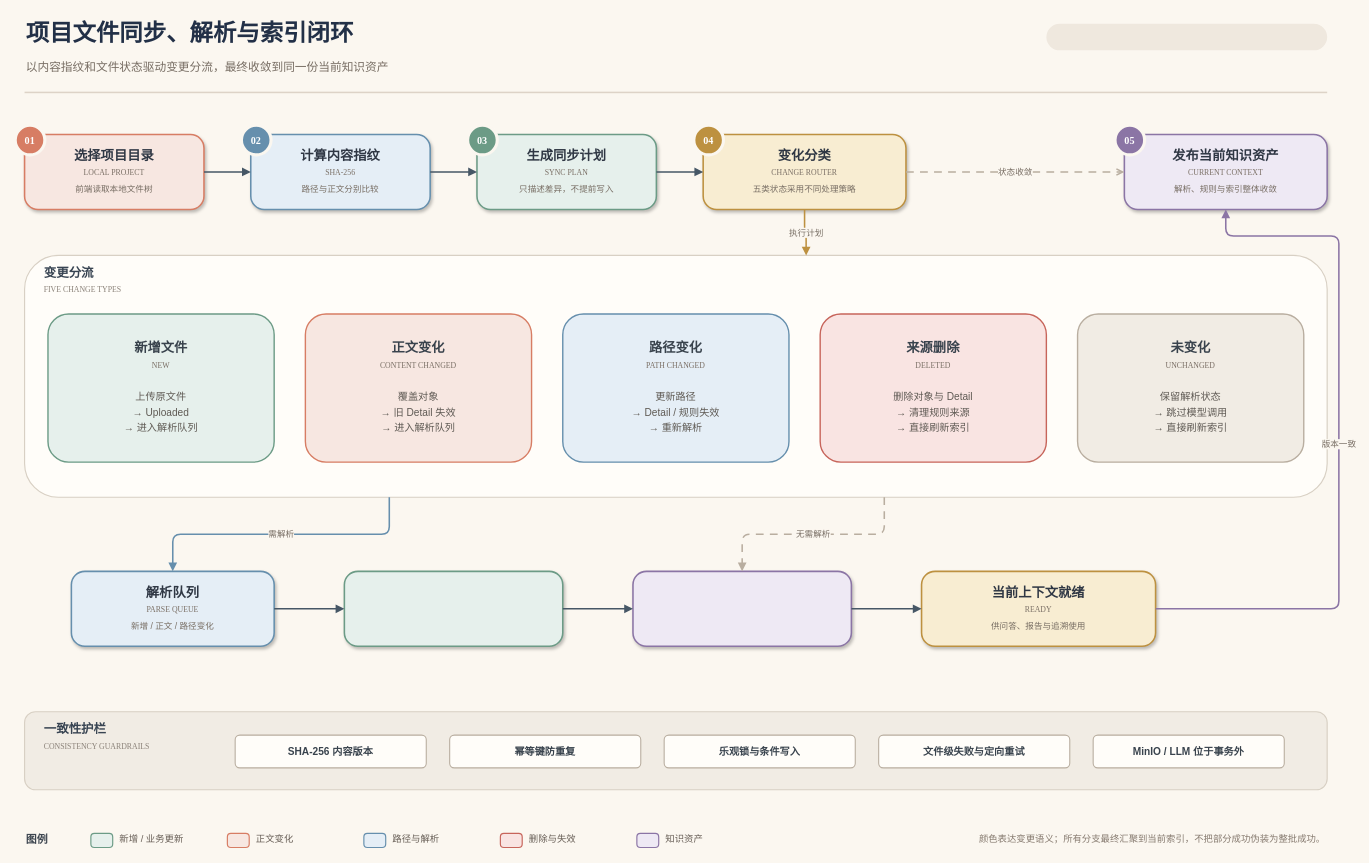
Some shapes in this 1369 by 863 pixel diagram are drawn without their labels. The centre of each missing label's shape, as x and y in pixels:
FILE LIFECYCLE · CONSISTENCY: point 1186,36
结构化资产更新 DETAIL + RULES 事实对账与来源绑定: point 454,609
重建全局索引 INDEX.JSON 仅保留当前有效来源: point 742,609
